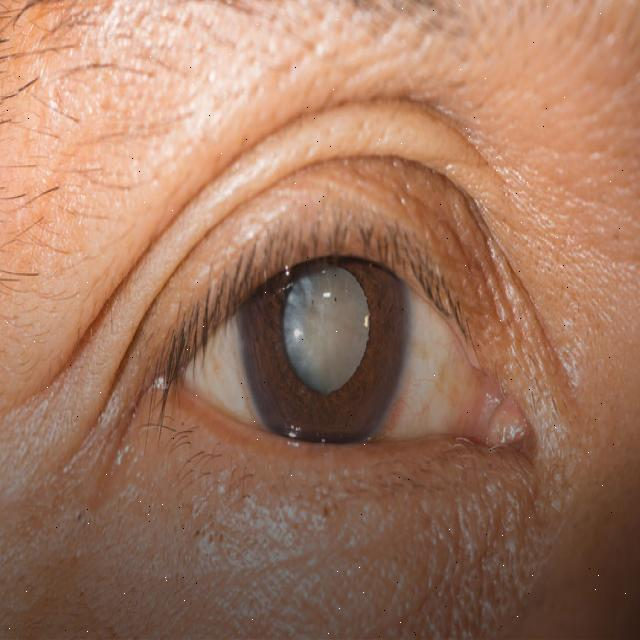Cataract: (229, 188, 406, 477)
